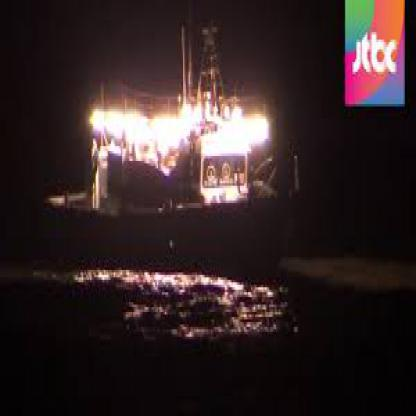fish-b: (28, 7, 313, 290)
